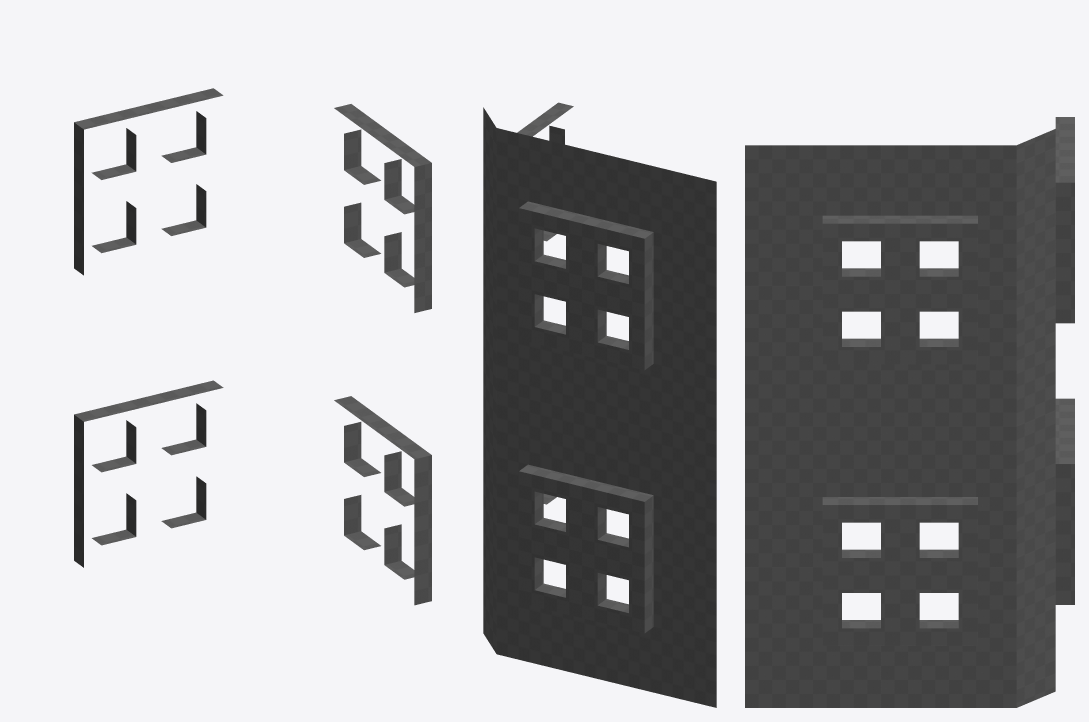
The picture shows the model from 3 angles, left to right: view 1: azimuth 30°, elevation 25°; view 2: azimuth 150°, elevation 25°; view 3: azimuth 270°, elevation 25°; orthographic projection. The views are drawn at different scales.
Visible parts, largest first — view 1: CubeBackRightV3; view 2: CubeBackRightV3; view 3: CubeBackRightV3.
Boxes of the visible parts, box(x1,y1,x2,y2) form: CubeBackRightV3: box(74, 88, 431, 605); CubeBackRightV3: box(483, 102, 716, 707); CubeBackRightV3: box(745, 117, 1074, 707).
Bounding box in the file's own units: 2.12 × 4 × 2.12.
1 material, 1 textured.
